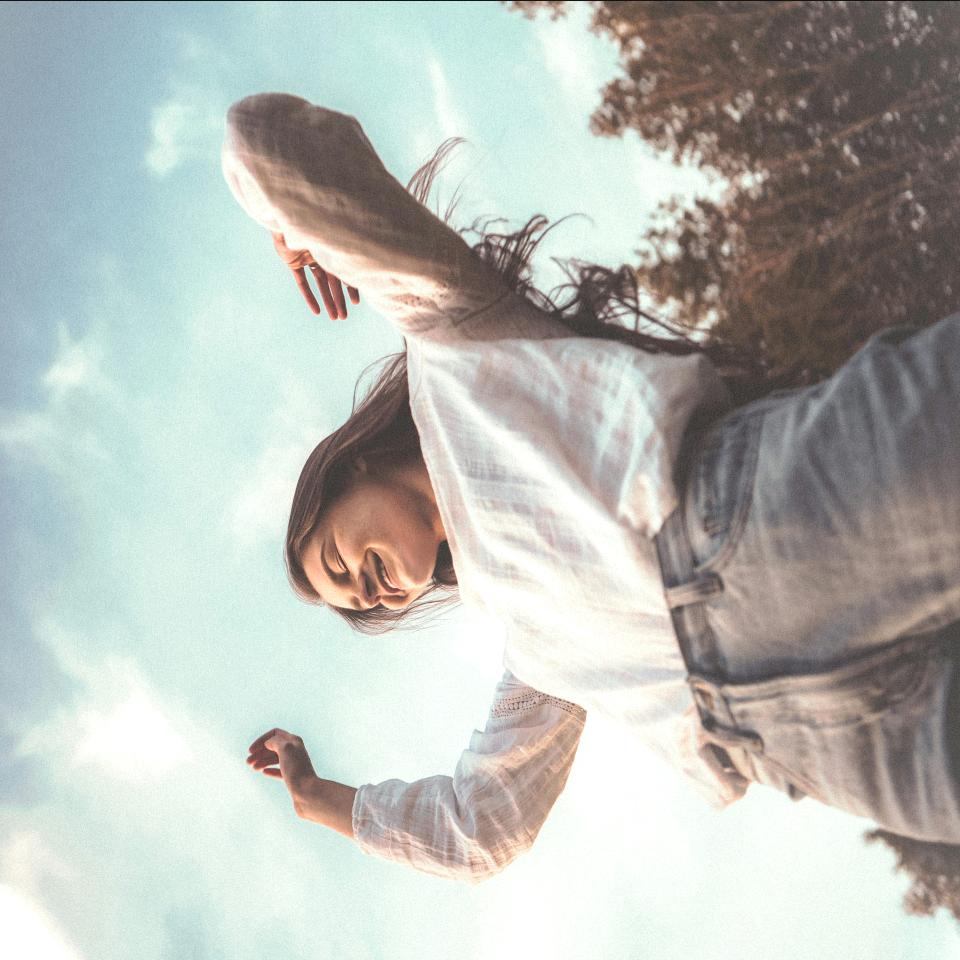Happiness: (304, 497, 432, 625)
